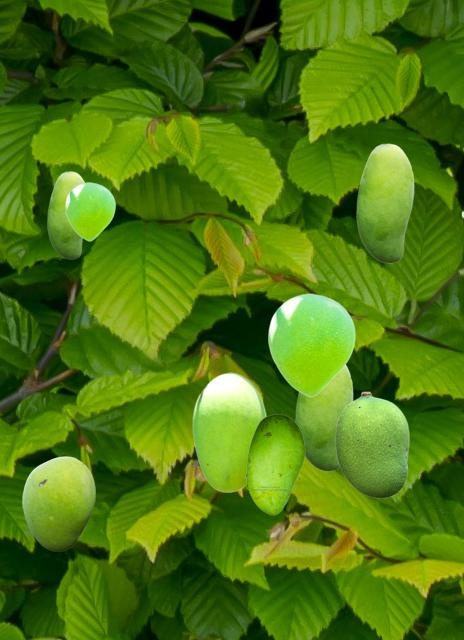green_mango: (268, 293, 354, 396), (192, 372, 265, 491), (335, 391, 408, 497), (356, 143, 413, 262), (22, 456, 94, 550), (295, 365, 352, 470), (245, 414, 304, 514), (47, 171, 84, 258), (65, 182, 114, 240)
